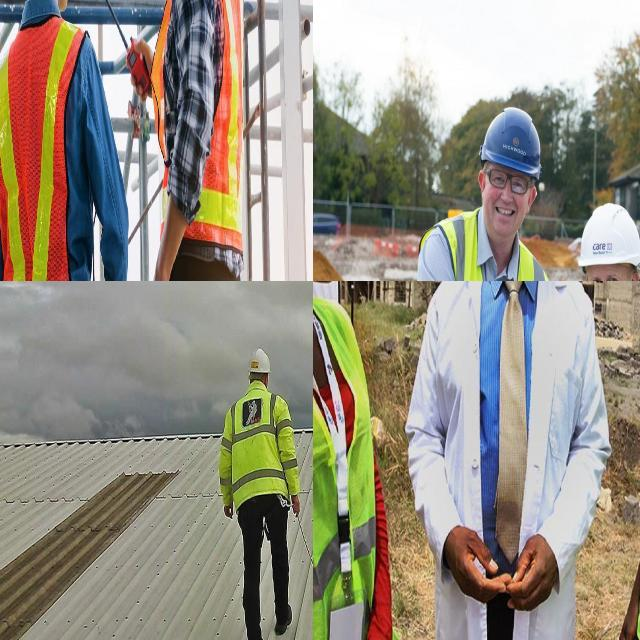face_nomask: (486, 165, 530, 236)
glasses: (486, 164, 530, 198)
hand_noglove: (441, 517, 506, 613), (505, 538, 558, 613)
head_helmet: (578, 202, 640, 272), (481, 106, 541, 178), (248, 347, 270, 373)
person: (438, 281, 569, 640), (0, 0, 126, 281), (132, 0, 252, 281), (386, 107, 543, 281), (217, 353, 304, 640), (313, 281, 375, 640)
shoes: (272, 601, 292, 638), (244, 625, 268, 640)
vest: (0, 11, 99, 281), (151, 0, 246, 251), (313, 313, 381, 640), (395, 209, 545, 281), (221, 384, 301, 508)
